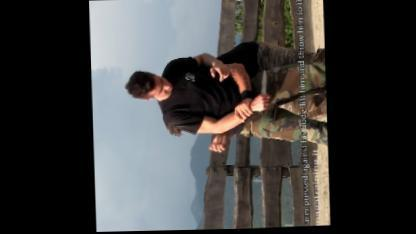knife: (254, 68, 269, 118)
